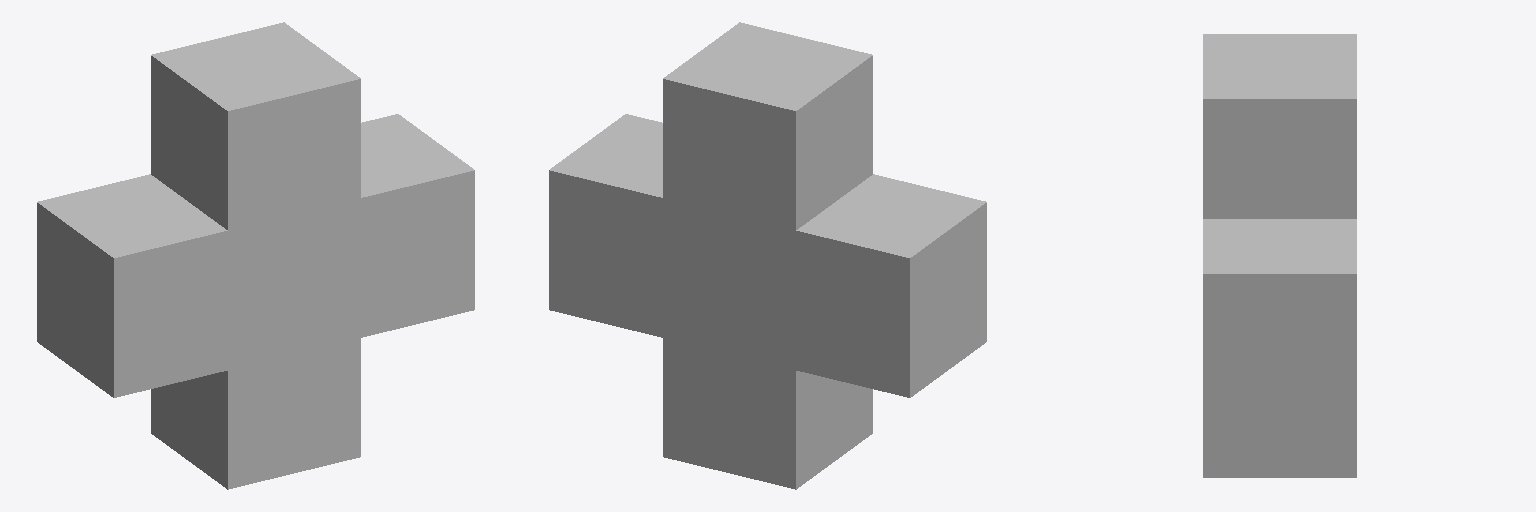
The model's file is cruz.obj.
3 views of the same model, side by side, from view 1: azimuth 30°, elevation 25°; view 2: azimuth 150°, elevation 25°; view 3: azimuth 270°, elevation 25° (orthographic).
Visible parts, largest first — view 1: Cube.004_Cube.005; view 2: Cube.004_Cube.005; view 3: Cube.004_Cube.005.
Boxes of the visible parts, <box> form: Cube.004_Cube.005: <box>37,22,474,489</box>; Cube.004_Cube.005: <box>549,22,986,489</box>; Cube.004_Cube.005: <box>1203,34,1356,477</box>.
Size of the model in its own units: 5.41 by 5.41 by 2.